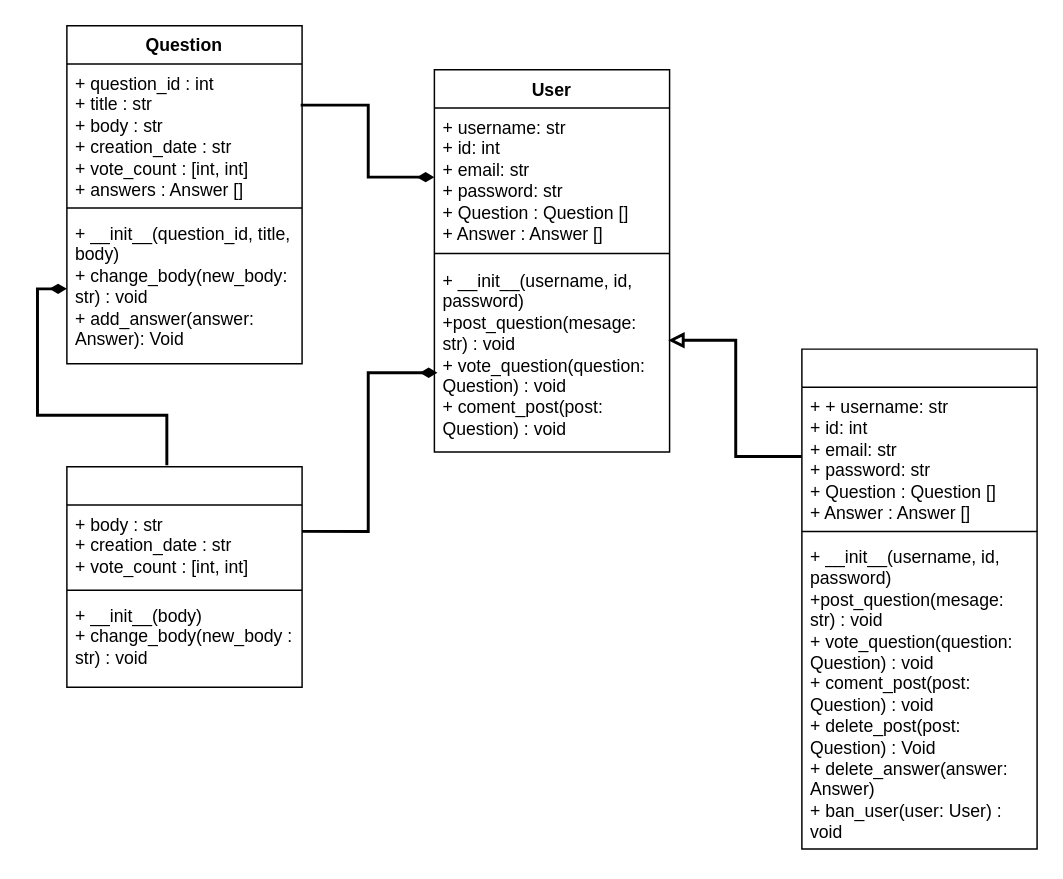
The diagram is 1063 pixels wide and 879 high, and some of its shapes have lost their labels. The box of each missing label's shape, as (x1, y1, x2, y2) in pixels:
Admin: (800, 348, 1037, 849)
Answer: (65, 465, 302, 687)
